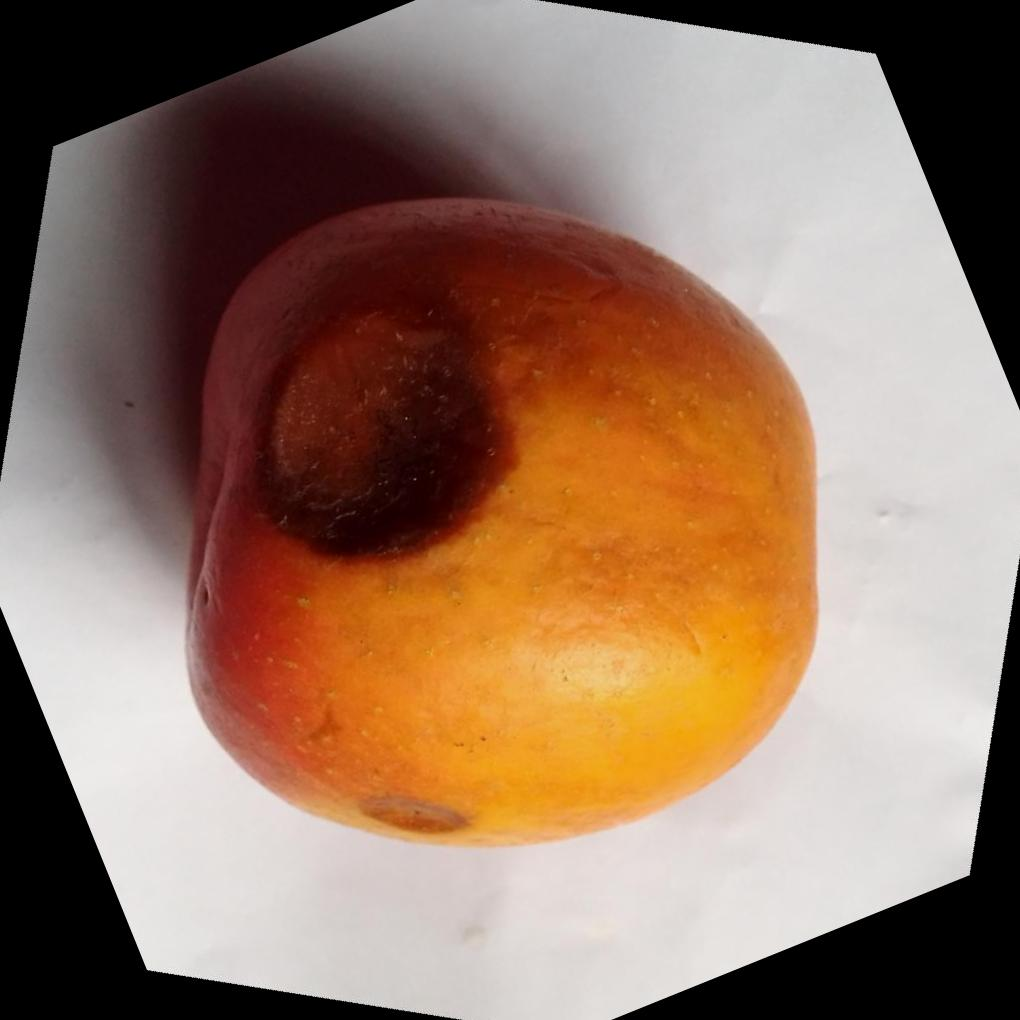FreshOrange: (180, 189, 820, 847)
